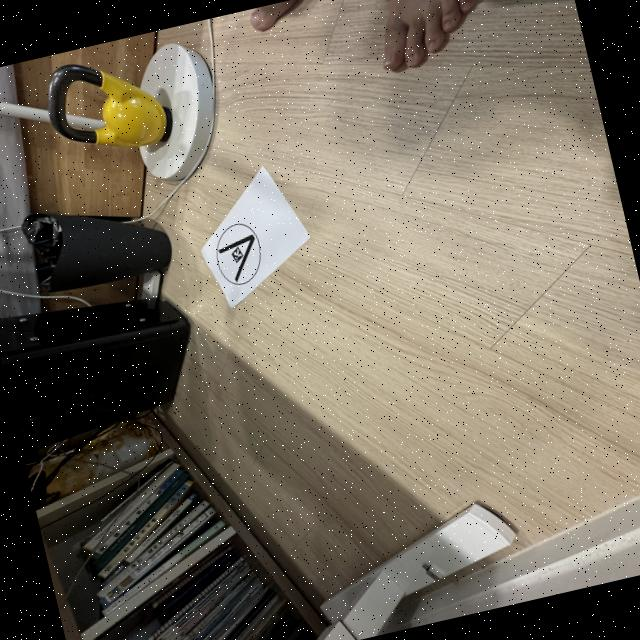ArUro mark: (205, 212, 272, 293)
